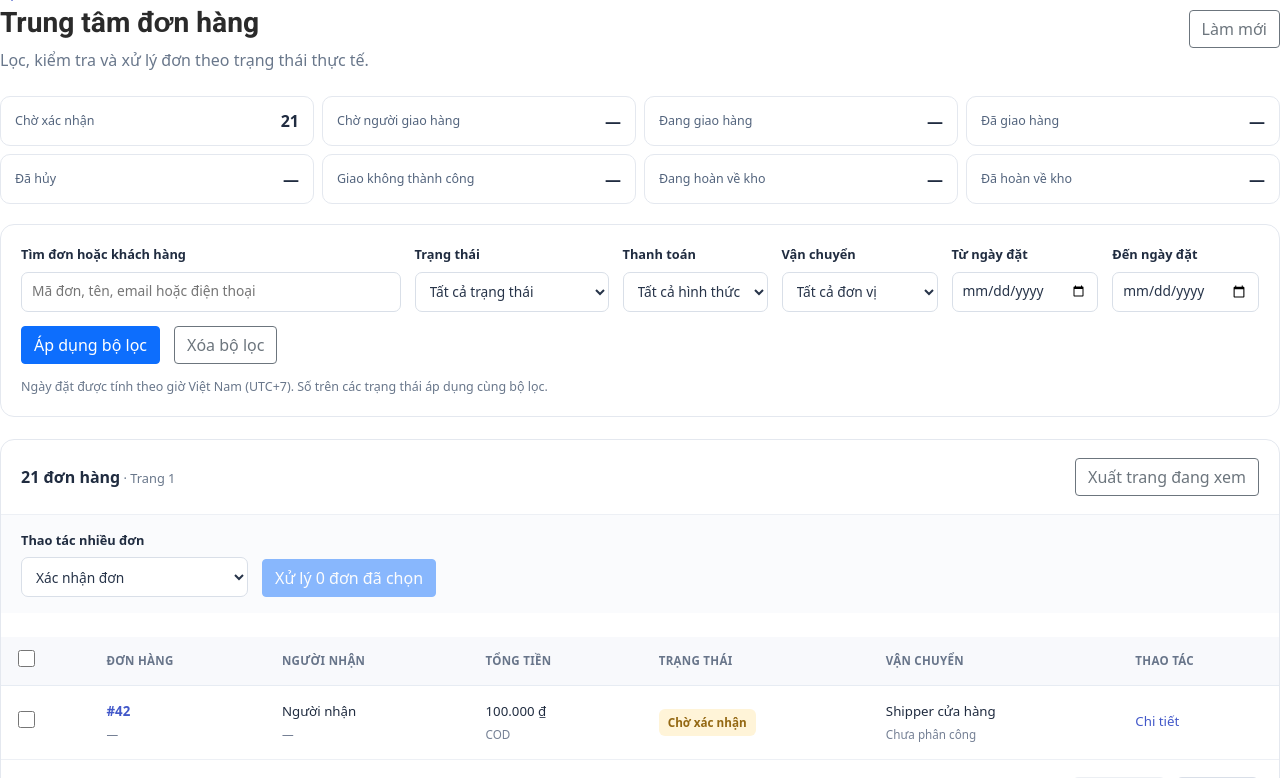
Test: refresh keeps order rows mounted and blocks stale bulk selection until data is current
What coordinates should you click on to do the following:
click the button "Làm mới"
I would click on:
 (1234, 29)
Its box is x1=1189 y1=10 x2=1279 y2=48.
(page scrolled)
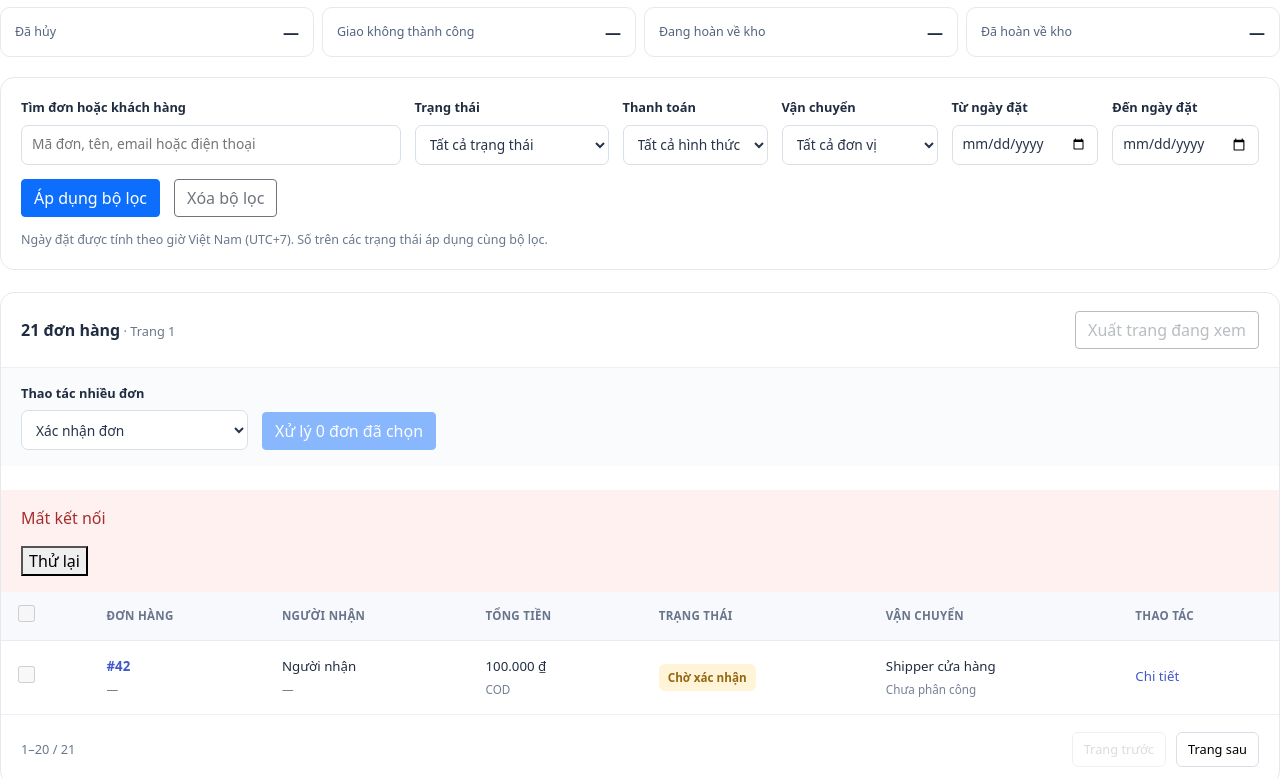
Check: the checkbox named "Chọn tất cả đơn đủ điều kiện trên trang" is disabled, box x1=18 y1=605 x2=35 y2=622
Check: the message "Mất kết nối Thử lại" is shown, box x1=1 y1=490 x2=1279 y2=592
Check: the checkbox named "Chọn đơn 42" is disabled, box x1=18 y1=666 x2=35 y2=683
